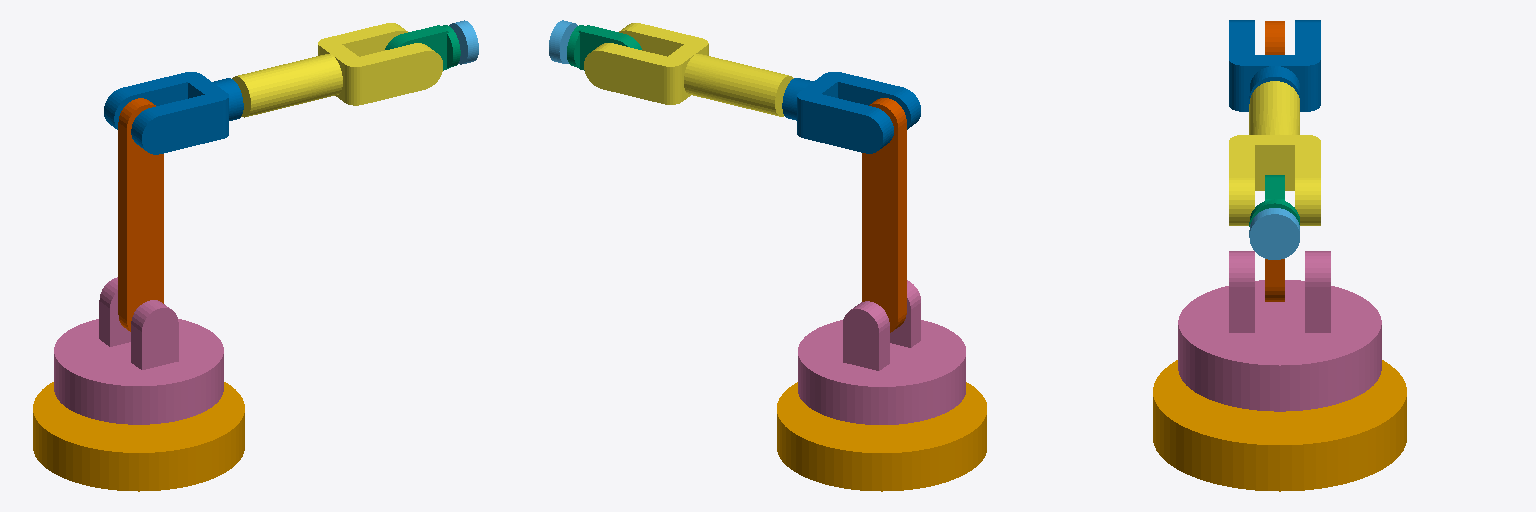
URDF robot description (test):
<?xml version="1.0" ?>
<robot name="test">

<link name="base_link">
  <inertial>
    <origin xyz="-1.08562933127288e-17 -1.08562933127288e-17 0.005" rpy="0 0 0"/>
    <mass value="0.15413438956674924"/>
    <inertia ixx="2.5e-05" iyy="2.5e-05" izz="4.8e-05" ixy="-0.0" iyz="0.0" ixz="0.0"/>
  </inertial>
  <visual>
    <origin xyz="0 0 0" rpy="0 0 0"/>
    <geometry>
      <mesh filename="package://test_description/meshes/base_link.stl" scale="0.001 0.001 0.001"/>
    </geometry>
  </visual>
  <collision>
    <origin xyz="0 0 0" rpy="0 0 0"/>
    <geometry>
      <mesh filename="package://test_description/meshes/base_link.stl" scale="0.001 0.001 0.001"/>
    </geometry>
  </collision>
</link>

<link name="link6_1">
  <inertial>
    <origin xyz="0.0034999999999999892 0.0010000000005228405 1.3877787807814457e-17" rpy="0 0 0"/>
    <mass value="0.0018496126748010744"/>
    <inertia ixx="0.0" iyy="0.0" izz="0.0" ixy="0.0" iyz="-0.0" ixz="0.0"/>
  </inertial>
  <visual>
    <origin xyz="-0.084 0.002 -0.085" rpy="0 0 0"/>
    <geometry>
      <mesh filename="package://test_description/meshes/link6_1.stl" scale="0.001 0.001 0.001"/>
    </geometry>
  </visual>
  <collision>
    <origin xyz="-0.084 0.002 -0.085" rpy="0 0 0"/>
    <geometry>
      <mesh filename="package://test_description/meshes/link6_1.stl" scale="0.001 0.001 0.001"/>
    </geometry>
  </collision>
</link>

<link name="link5_1">
  <inertial>
    <origin xyz="0.004756841581346163 0.004999999999313741 1.8822445574384616e-08" rpy="0 0 0"/>
    <mass value="0.005609800150253849"/>
    <inertia ixx="0.0" iyy="0.0" izz="0.0" ixy="0.0" iyz="0.0" ixz="-0.0"/>
  </inertial>
  <visual>
    <origin xyz="-0.072 0.006 -0.085" rpy="0 0 0"/>
    <geometry>
      <mesh filename="package://test_description/meshes/link5_1.stl" scale="0.001 0.001 0.001"/>
    </geometry>
  </visual>
  <collision>
    <origin xyz="-0.072 0.006 -0.085" rpy="0 0 0"/>
    <geometry>
      <mesh filename="package://test_description/meshes/link5_1.stl" scale="0.001 0.001 0.001"/>
    </geometry>
  </collision>
</link>

<link name="link4_1">
  <inertial>
    <origin xyz="0.028084825775883275 0.0009999999997823898 0.0" rpy="0 0 0"/>
    <mass value="0.03703289435289015"/>
    <inertia ixx="1e-06" iyy="7e-06" izz="8e-06" ixy="-0.0" iyz="0.0" ixz="0.0"/>
  </inertial>
  <visual>
    <origin xyz="-0.025 0.002 -0.085" rpy="0 0 0"/>
    <geometry>
      <mesh filename="package://test_description/meshes/link4_1.stl" scale="0.001 0.001 0.001"/>
    </geometry>
  </visual>
  <collision>
    <origin xyz="-0.025 0.002 -0.085" rpy="0 0 0"/>
    <geometry>
      <mesh filename="package://test_description/meshes/link4_1.stl" scale="0.001 0.001 0.001"/>
    </geometry>
  </collision>
</link>

<link name="link3_1">
  <inertial>
    <origin xyz="0.010885993003913295 0.0029999999999347523 1.3877787807814457e-17" rpy="0 0 0"/>
    <mass value="0.024702143187550485"/>
    <inertia ixx="1e-06" iyy="2e-06" izz="2e-06" ixy="0.0" iyz="0.0" ixz="0.0"/>
  </inertial>
  <visual>
    <origin xyz="-0.0 0.004 -0.085" rpy="0 0 0"/>
    <geometry>
      <mesh filename="package://test_description/meshes/link3_1.stl" scale="0.001 0.001 0.001"/>
    </geometry>
  </visual>
  <collision>
    <origin xyz="-0.0 0.004 -0.085" rpy="0 0 0"/>
    <geometry>
      <mesh filename="package://test_description/meshes/link3_1.stl" scale="0.001 0.001 0.001"/>
    </geometry>
  </collision>
</link>

<link name="link2_1">
  <inertial>
    <origin xyz="0.0 0.004 0.024999999999999994" rpy="0 0 0"/>
    <mass value="0.018166150233067987"/>
    <inertia ixx="5e-06" iyy="5e-06" izz="0.0" ixy="-0.0" iyz="0.0" ixz="0.0"/>
  </inertial>
  <visual>
    <origin xyz="-0.0 0.005 -0.035" rpy="0 0 0"/>
    <geometry>
      <mesh filename="package://test_description/meshes/link2_1.stl" scale="0.001 0.001 0.001"/>
    </geometry>
  </visual>
  <collision>
    <origin xyz="-0.0 0.005 -0.035" rpy="0 0 0"/>
    <geometry>
      <mesh filename="package://test_description/meshes/link2_1.stl" scale="0.001 0.001 0.001"/>
    </geometry>
  </collision>
</link>

<link name="link1_1">
  <inertial>
    <origin xyz="-5.090186890898328e-18 -2.545093445449164e-18 0.011198061183370774" rpy="0 0 0"/>
    <mass value="0.10957869711405449"/>
    <inertia ixx="1.3e-05" iyy="1.2e-05" izz="2e-05" ixy="-0.0" iyz="-0.0" ixz="0.0"/>
  </inertial>
  <visual>
    <origin xyz="-0.0 -0.0 -0.01" rpy="0 0 0"/>
    <geometry>
      <mesh filename="package://test_description/meshes/link1_1.stl" scale="0.001 0.001 0.001"/>
    </geometry>
  </visual>
  <collision>
    <origin xyz="-0.0 -0.0 -0.01" rpy="0 0 0"/>
    <geometry>
      <mesh filename="package://test_description/meshes/link1_1.stl" scale="0.001 0.001 0.001"/>
    </geometry>
  </collision>
</link>

<joint
  name="joint1"
  type="revolute">
  <origin
    xyz="0.0 0.0 0.01"
    rpy="0 0 0" />
  <parent
    link="base_link" />
  <child
    link="link1_1" />
  <axis
    xyz="0 0 1" />
  <limit
    lower="-3.054"
    upper="3.054"
    effort="18"
    velocity="3.5" />
</joint>

<joint
  name="joint2"
  type="revolute">
  <origin
    xyz="0.0 -0.005 0.025"
    rpy="0 0 0" />
  <parent
    link="link1_1" />
  <child
    link="link2_1" />
  <axis
    xyz="0 -1 0" />
  <limit
    lower="-3.054"
    upper="3.054"
    effort="18"
    velocity="3.5" />
</joint>

<joint
  name="joint3"
  type="revolute">
  <origin
    xyz="0.0 0.001 0.05"
    rpy="0 0 0" />
  <parent
    link="link2_1" />
  <child
    link="link3_1" />
  <axis
    xyz="0 -1 0" />
  <limit
    lower="-3.054"
    upper="3.054"
    effort="18"
    velocity="3.5" />
</joint>

<joint
  name="joint4"
  type="revolute">
  <origin
    xyz="0.025 0.002 0.0"
    rpy="0 0 0" />
  <parent
    link="link3_1" />
  <child
    link="link4_1" />
  <axis
    xyz="1 0 0" />
  <limit
    lower="-3.054"
    upper="3.054"
    effort="18"
    velocity="3.5" />
</joint>

<joint
  name="joint5"
  type="revolute">
  <origin
    xyz="0.047 -0.004 0.0"
    rpy="0 0 0" />
  <parent
    link="link4_1" />
  <child
    link="link5_1" />
  <axis
    xyz="0 -1 0" />
  <limit
    lower="-3.054"
    upper="3.054"
    effort="18"
    velocity="3.5" />
</joint>

<joint
  name="joint6"
  type="revolute">
  <origin
    xyz="0.012 0.004 0.0"
    rpy="0 0 0" />
  <parent
    link="link5_1" />
  <child
    link="link6_1" />
  <axis
    xyz="1 0 0" />
  <limit
    lower="-3.054"
    upper="3.054"
    effort="18"
    velocity="3.5" />
</joint>

</robot>

--- Facts derived from the render (not from the file) ---
The picture shows the robot from 3 angles, left to right: view 1: azimuth 30°, elevation 25°; view 2: azimuth 150°, elevation 25°; view 3: azimuth 270°, elevation 25°; orthographic projection.
Model test with 7 links and 6 joints (6 revolute), rooted at base_link, posed all joints at 0.
Visible links, largest first — view 1: link1_1, base_link, link4_1, link2_1, link3_1, link5_1, link6_1; view 2: link1_1, base_link, link4_1, link2_1, link3_1, link5_1, link6_1; view 3: link1_1, base_link, link4_1, link3_1, link6_1, link2_1, link5_1.
Boxes of the visible links, bbox=[...] form: link1_1: bbox=[54, 277, 223, 424]; base_link: bbox=[33, 382, 244, 491]; link4_1: bbox=[232, 23, 442, 117]; link2_1: bbox=[118, 98, 163, 331]; link3_1: bbox=[104, 72, 243, 154]; link5_1: bbox=[385, 25, 460, 70]; link6_1: bbox=[449, 20, 478, 64]; link1_1: bbox=[798, 280, 965, 424]; base_link: bbox=[777, 382, 986, 491]; link4_1: bbox=[584, 23, 793, 116]; link2_1: bbox=[862, 98, 906, 332]; link3_1: bbox=[782, 72, 920, 153]; link5_1: bbox=[567, 25, 641, 70]; link6_1: bbox=[549, 20, 577, 63]; link1_1: bbox=[1178, 251, 1381, 411]; base_link: bbox=[1153, 360, 1406, 491]; link4_1: bbox=[1229, 81, 1320, 225]; link3_1: bbox=[1229, 20, 1320, 111]; link6_1: bbox=[1249, 208, 1299, 259]; link2_1: bbox=[1265, 21, 1284, 301]; link5_1: bbox=[1249, 175, 1299, 226].
Bounding box of the posed robot: 0.114 × 0.0499 × 0.09 m (x, y, z).
Meshes: 7 distinct files referenced, 7 mesh visuals loaded (7 binary STL).